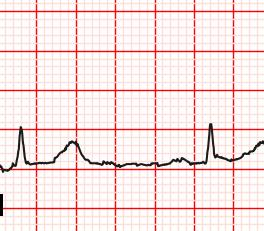LVH: (50, 140, 93, 169)
